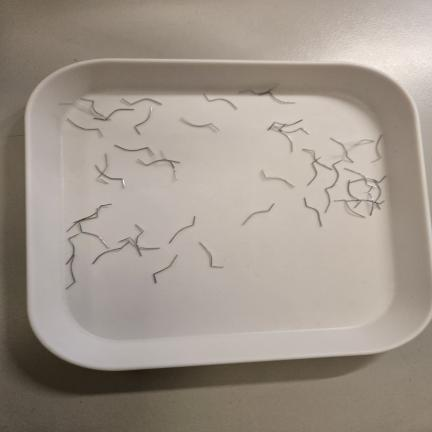probe: (169, 216, 196, 244), (153, 254, 178, 283), (242, 203, 274, 225), (67, 119, 103, 137), (199, 242, 223, 268), (262, 170, 294, 187), (134, 106, 153, 134), (204, 94, 237, 110), (181, 118, 219, 130), (115, 145, 154, 155), (121, 98, 162, 105), (304, 198, 316, 210), (318, 212, 320, 220), (320, 222, 322, 226)
